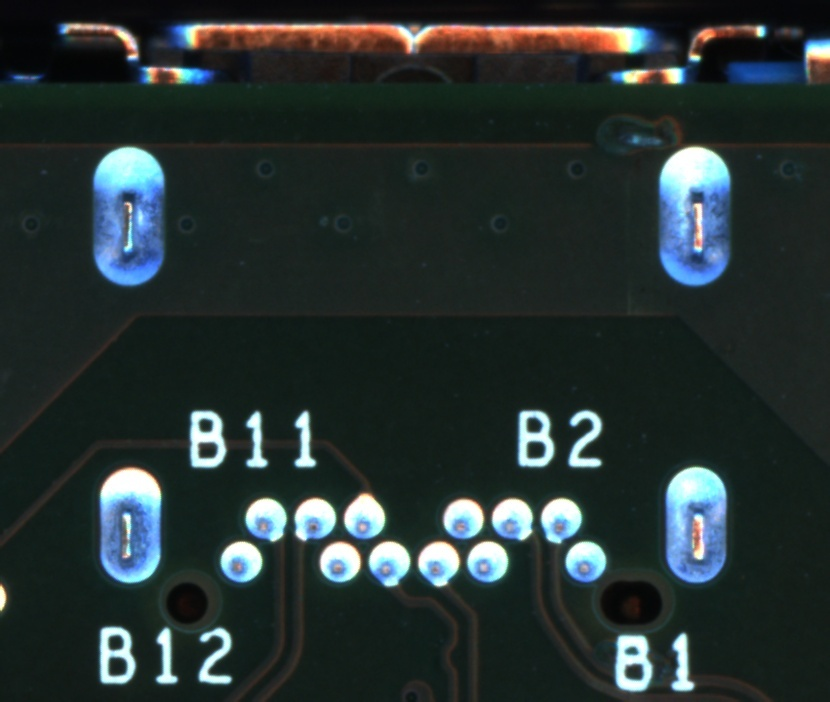SOLDER: (291, 494, 337, 543), (439, 494, 485, 543), (489, 494, 535, 543), (464, 537, 510, 586), (539, 496, 585, 544), (218, 538, 264, 586), (317, 538, 363, 586), (366, 540, 412, 588), (416, 540, 462, 588), (562, 537, 608, 585), (242, 495, 288, 543), (342, 493, 388, 541)
SOLDER2: (651, 442, 746, 601), (82, 139, 177, 298), (86, 447, 180, 605), (648, 139, 742, 297)
